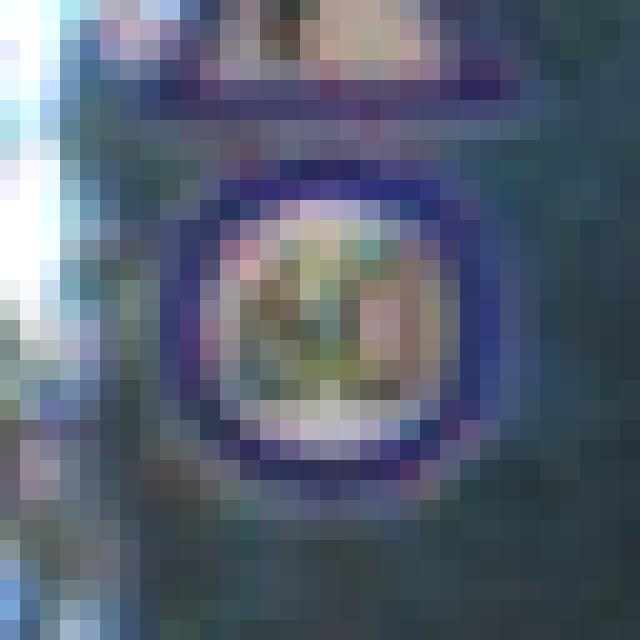SPEED-LIMIT-60: (140, 126, 545, 536)
